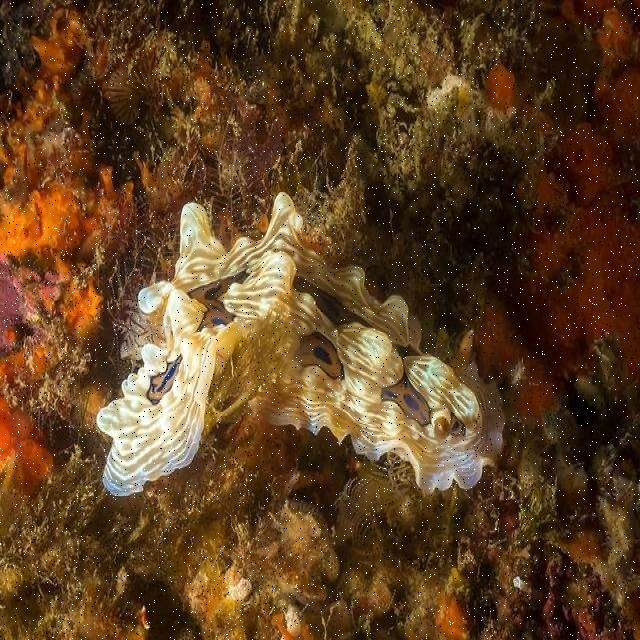reefs: (96, 190, 505, 496)
